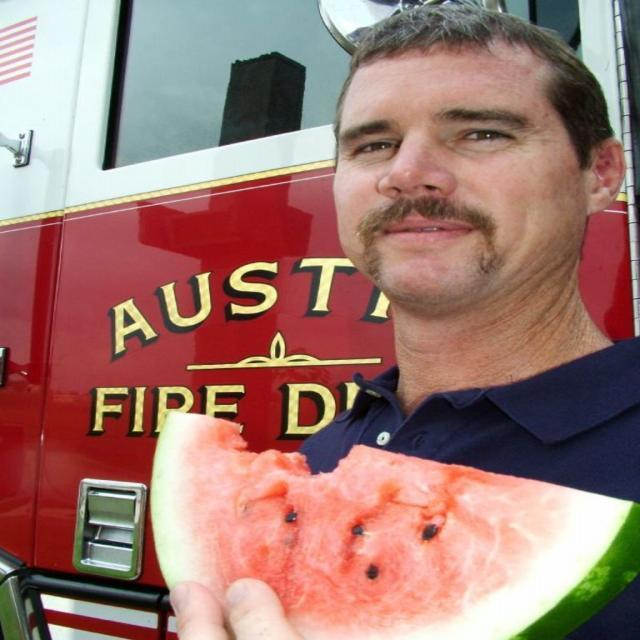Watermelon: (149, 410, 639, 640)
